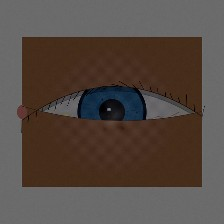pinguecula_lesion: (52, 106, 80, 128)
